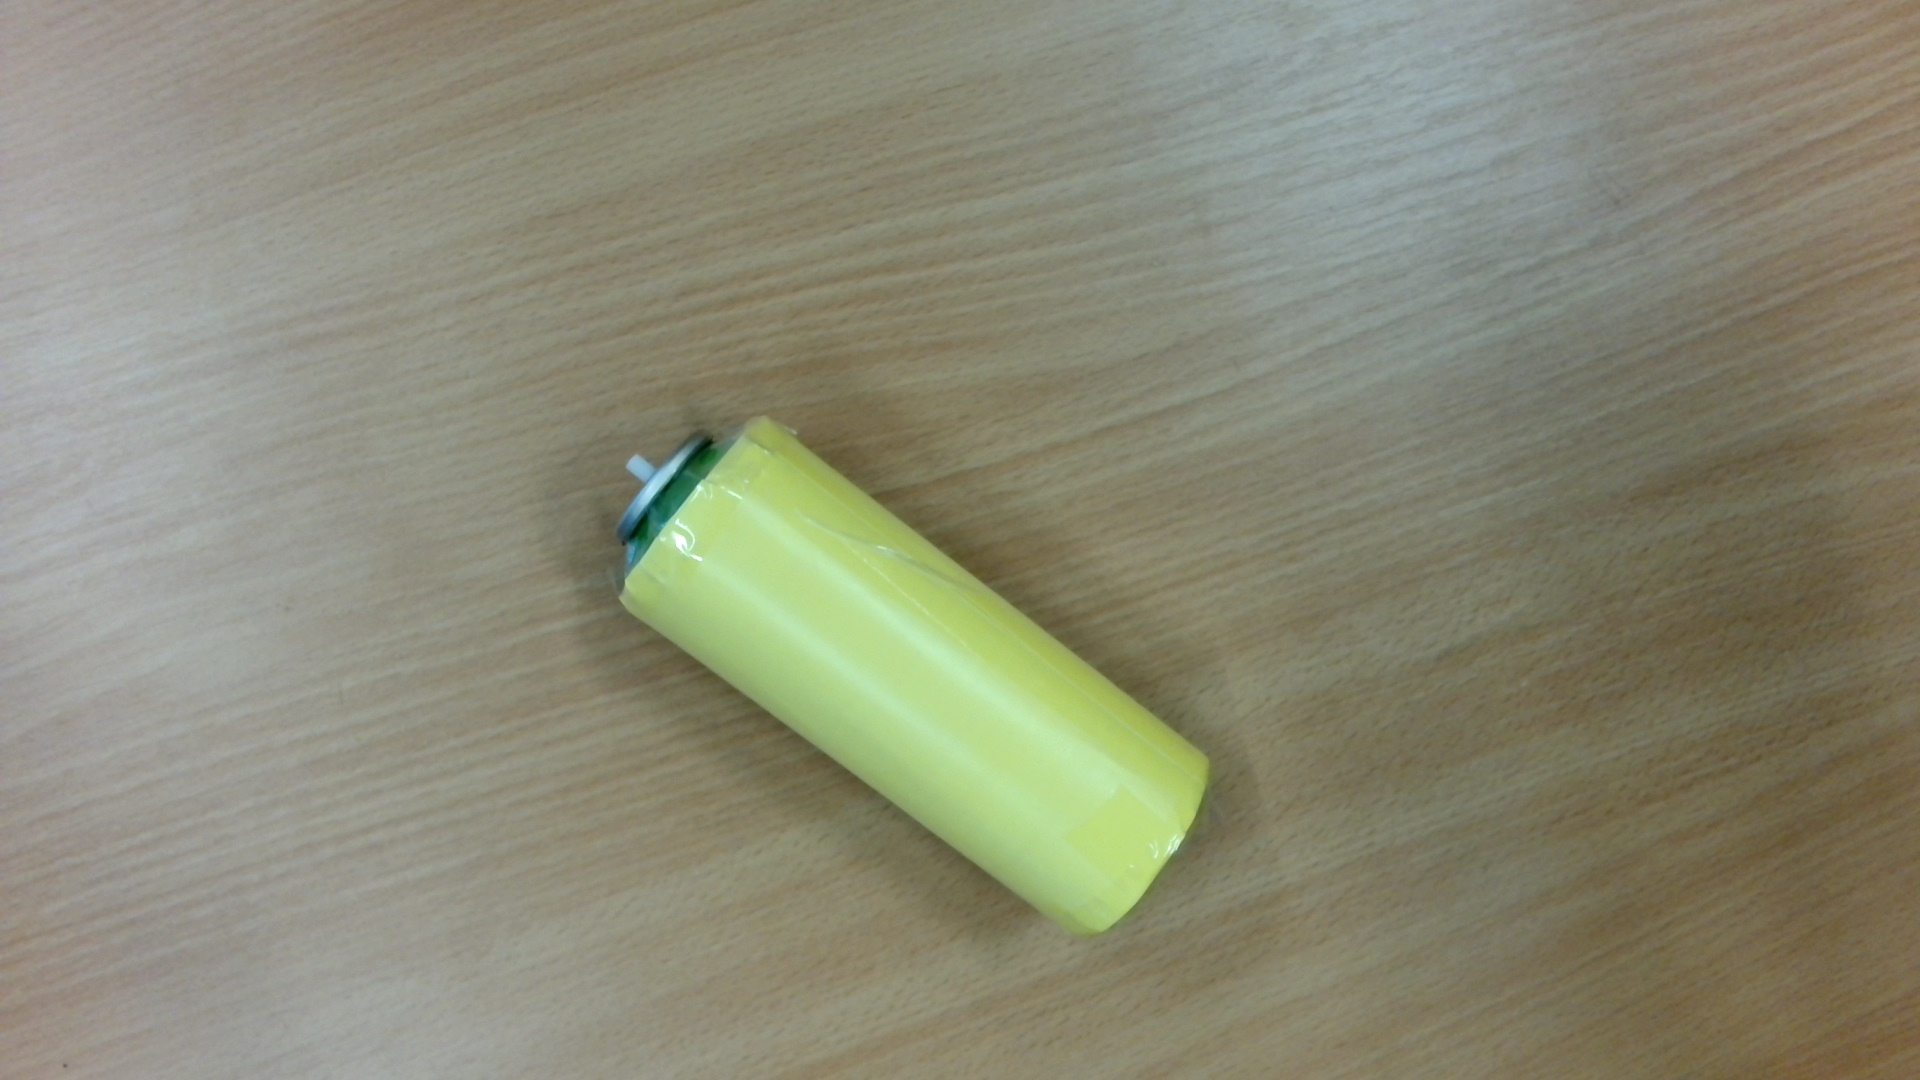Cylinder: (589, 400, 1240, 957)
